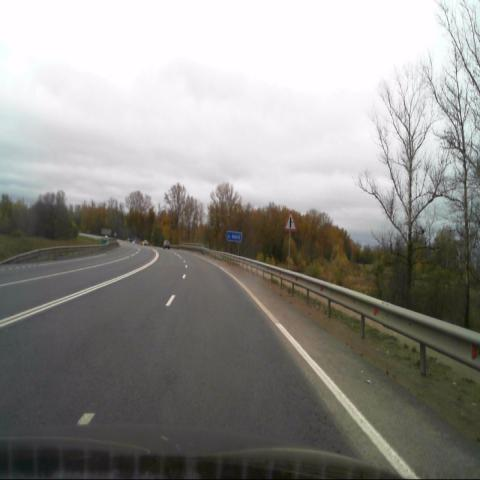2_3_2: (284, 210, 297, 230)
